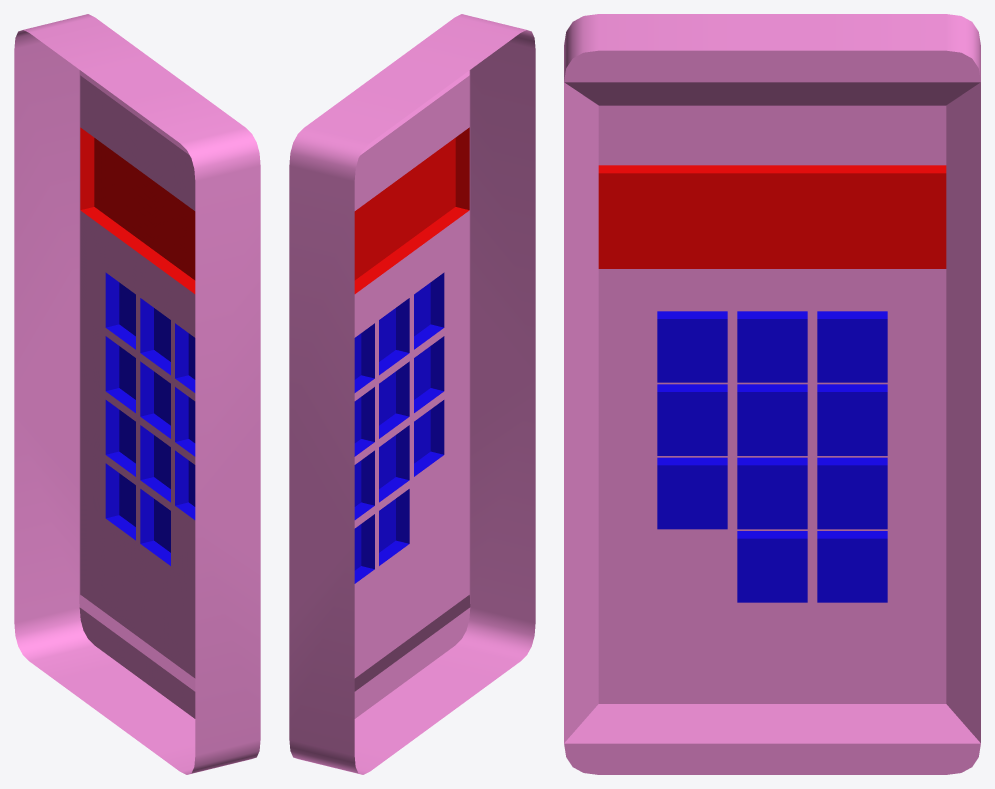
Rendered from SM_Digicode.fbx.
3 renders of one model, left to right at view 1: azimuth 30°, elevation 25°; view 2: azimuth 150°, elevation 25°; view 3: azimuth 270°, elevation 25°, orthographic. The views are drawn at different scales.
Visible parts, largest first — view 1: SM_Digicode; view 2: SM_Digicode; view 3: SM_Digicode.
Boxes of the visible parts, bbox=[...] form: SM_Digicode: bbox=[14, 14, 260, 774]; SM_Digicode: bbox=[289, 14, 535, 774]; SM_Digicode: bbox=[564, 14, 980, 774].
Bounding box in the file's own units: 2.5 × 23 × 12.
